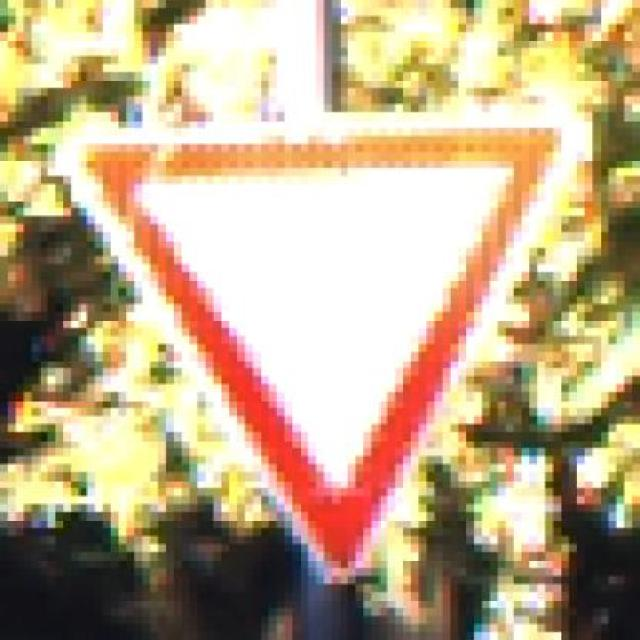Give Way: (39, 95, 593, 592)
